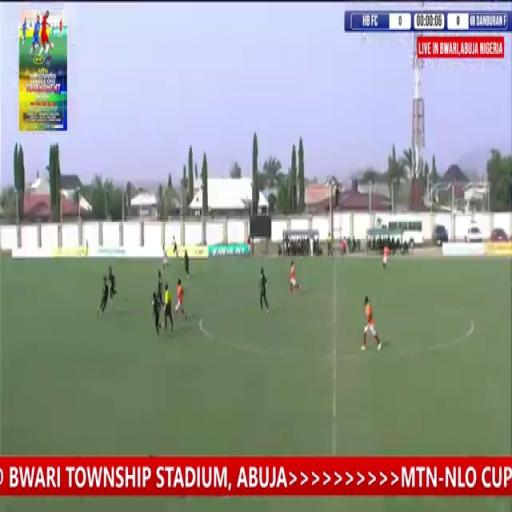team1: (358, 294, 385, 358), (286, 258, 304, 301), (174, 277, 187, 319), (379, 244, 391, 273)
team2: (256, 260, 274, 318), (150, 287, 164, 339), (97, 269, 109, 317), (104, 258, 118, 298), (155, 268, 164, 305), (184, 248, 194, 280)
